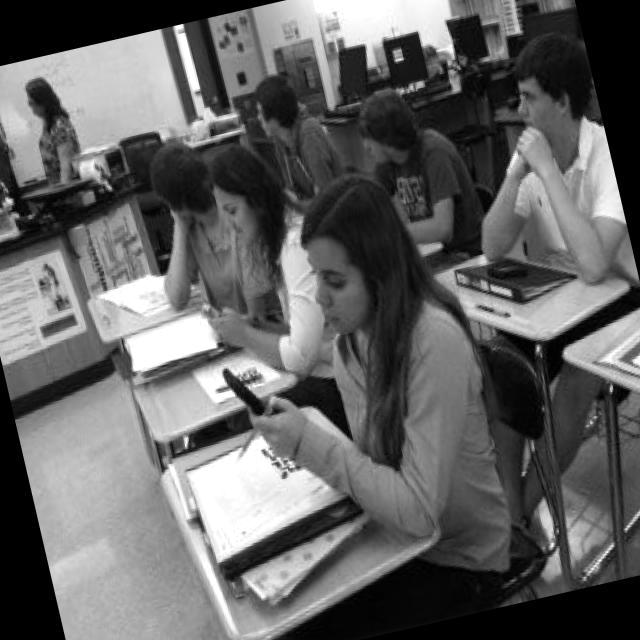phone: (222, 359, 268, 421)
